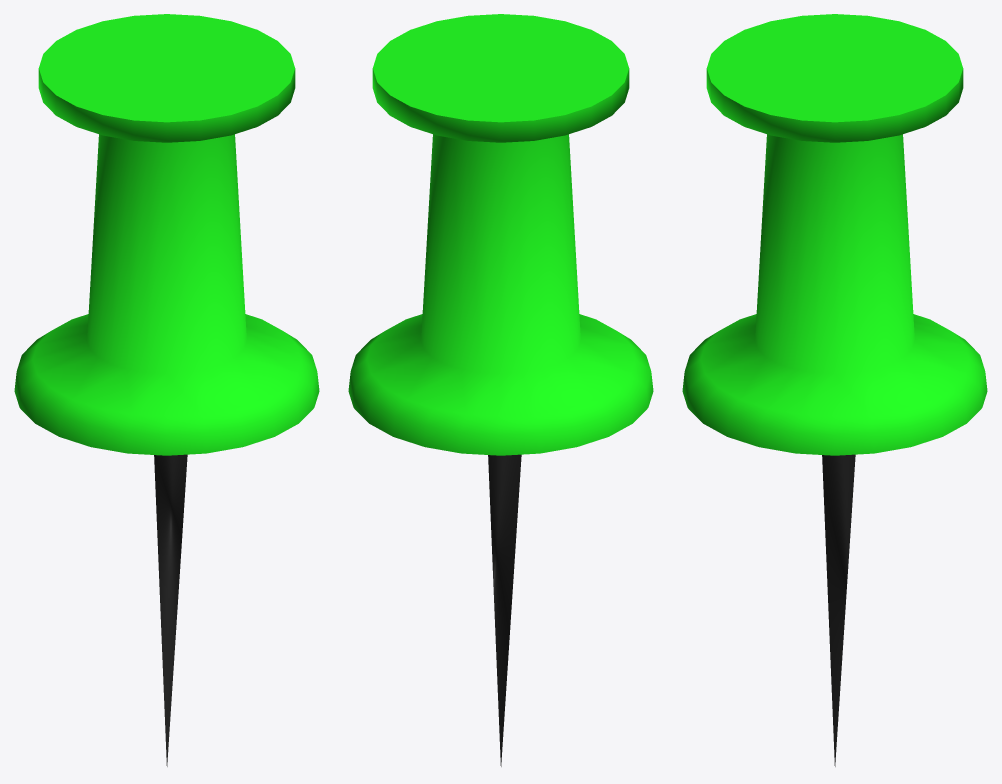
The model's file is pin2.obj.
3 views of the same model, side by side, from view 1: azimuth 30°, elevation 25°; view 2: azimuth 150°, elevation 25°; view 3: azimuth 270°, elevation 25° (orthographic).
Visible parts, largest first — view 1: Circle_Circle.001; view 2: Circle_Circle.001; view 3: Circle_Circle.001.
Boxes of the visible parts, x1=… form: Circle_Circle.001: x1=14, y1=14, x2=319, y2=766; Circle_Circle.001: x1=348, y1=14, x2=653, y2=766; Circle_Circle.001: x1=682, y1=14, x2=987, y2=766.
Bounding box in the file's own units: 0.2877 × 0.7304 × 0.2877.
